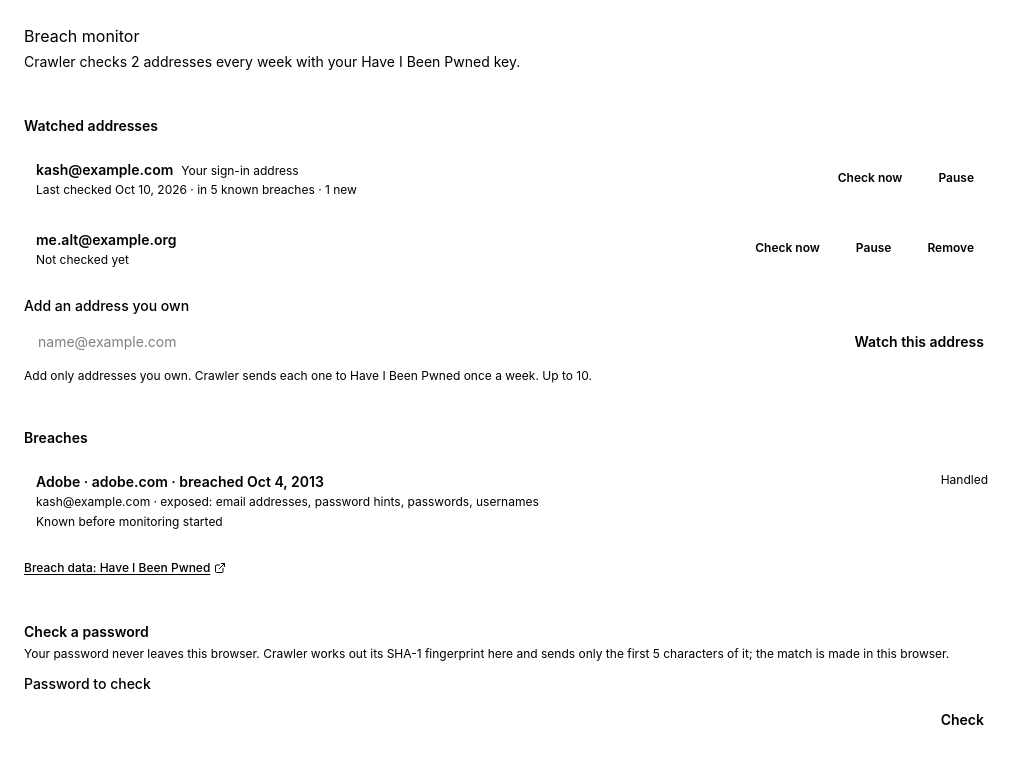
Test: BreachMonitorTab › Check now shows the new breaches from the answer, and a failed lookup says not checked rather than no breaches
Click the button with aria-label "Check now: me.alt@example.org". click: point(788, 248)
box: [741,230,834,266]
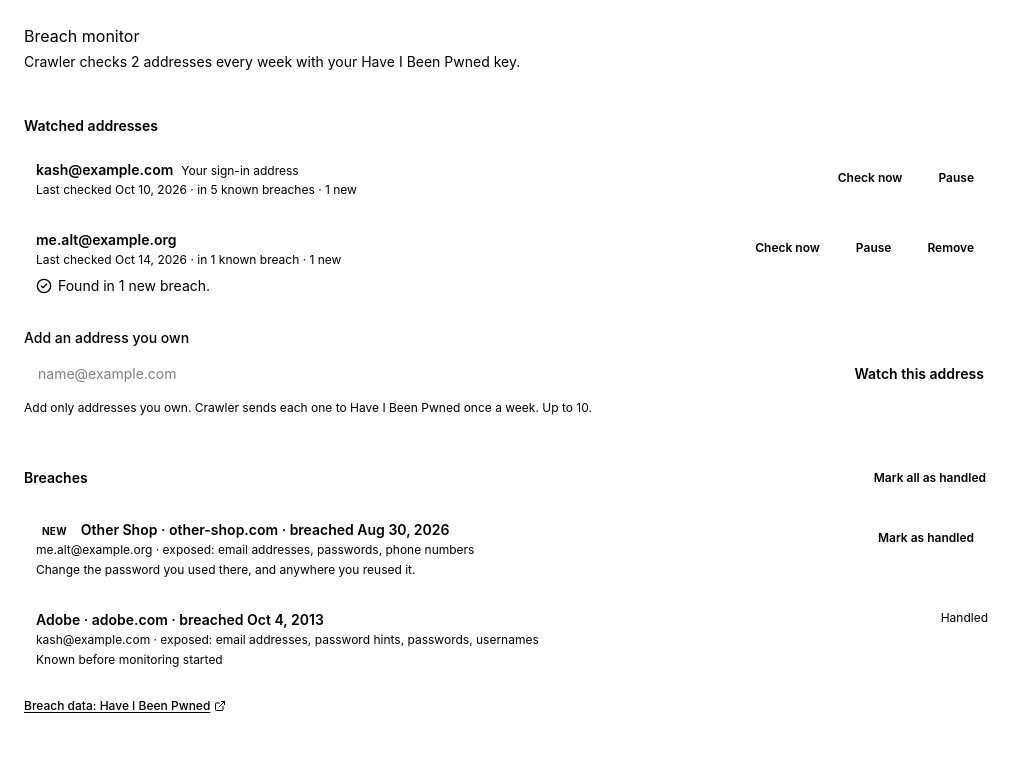
Expected: the message reads "Found in 1 new breach.", [58,277,210,294]
Expected: the list item that starts with "NEW" is shown, [42,525,67,537]
Expected: the list item that starts with "NEW" shows "Other Shop · other-shop.com", [81,521,450,538]
Click the button with aria-label "Check now: kash@example.com". click: point(870, 178)
box: [824,160,916,196]
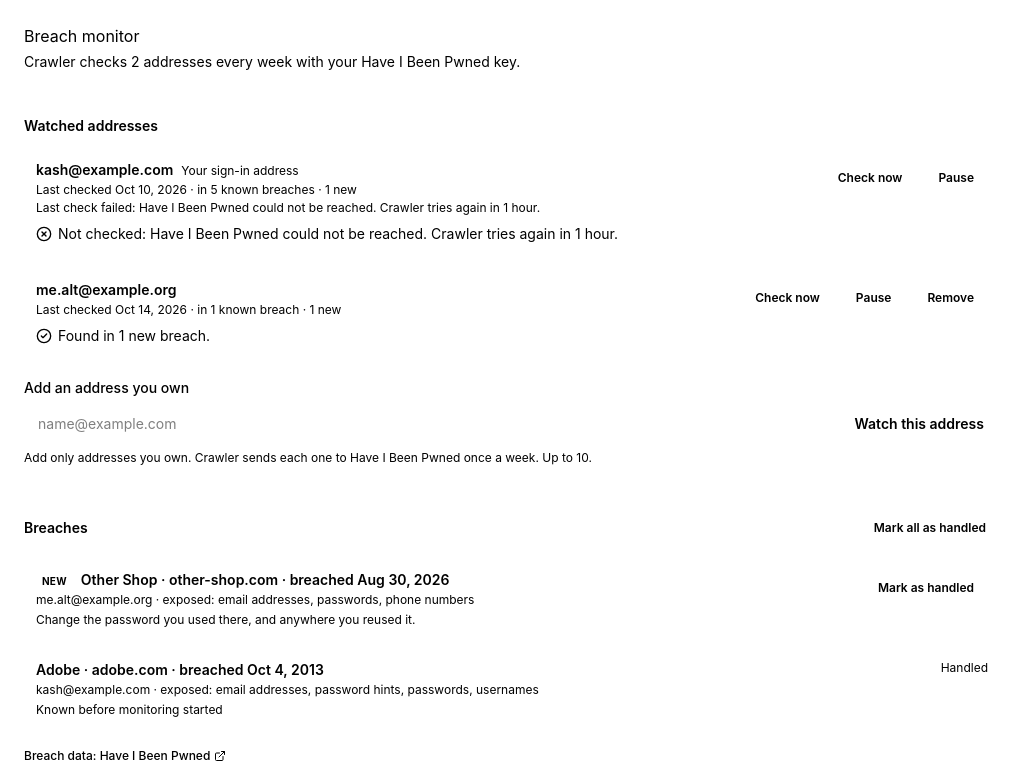
Expected: the 1st message shows "Not checked: Have I Been Pwned could not be reached. Crawler tries again in 1 hour.", [58,225,618,242]
Expected: the list item that starts with "kash@example.com" shows "Last check failed: Have I Been Pwned could not be reached.", [36,200,540,215]
